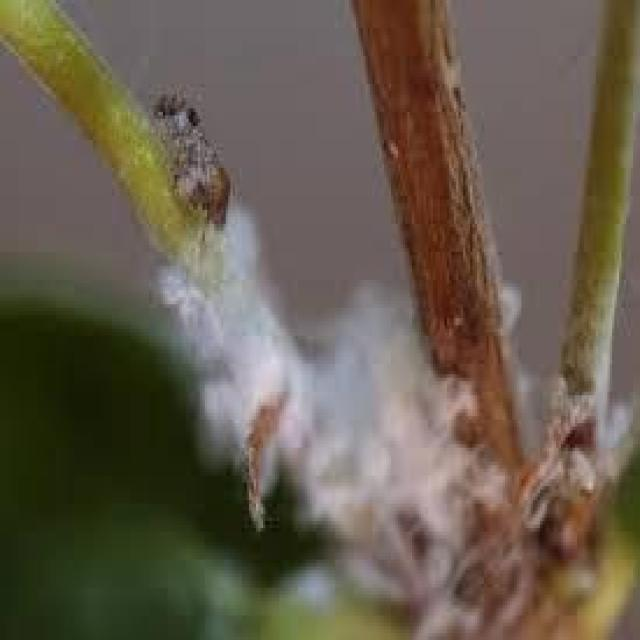Psyllid: (158, 192, 517, 637)
